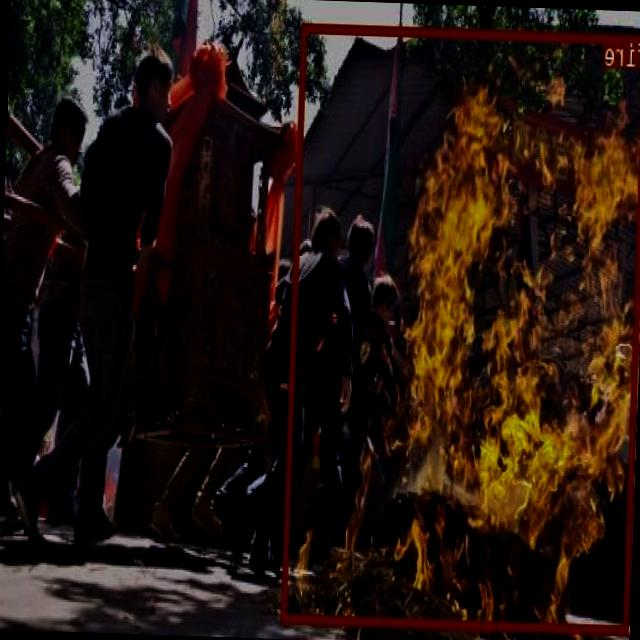fire: (282, 20, 640, 633)
